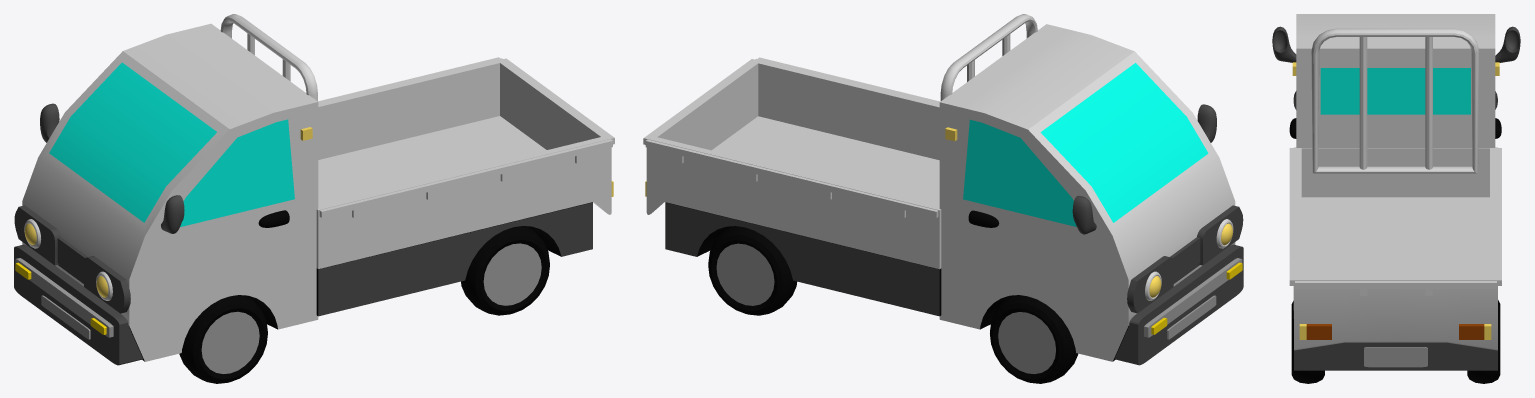
Rendered from TruckTest.fbx.
3 renders of one model, left to right at view 1: azimuth 30°, elevation 25°; view 2: azimuth 150°, elevation 25°; view 3: azimuth 270°, elevation 25°, orthographic. The views are drawn at different scales.
Parts seen in each view (by area): view 1: Cube.022; view 2: Cube.022; view 3: Cube.022.
Boxes of the visible parts, x1,y1,x2,y2 form: Cube.022: [14, 14, 614, 383]; Cube.022: [643, 14, 1243, 383]; Cube.022: [1272, 14, 1520, 383].
Bounding box in the file's own units: 623 × 338 × 287.
